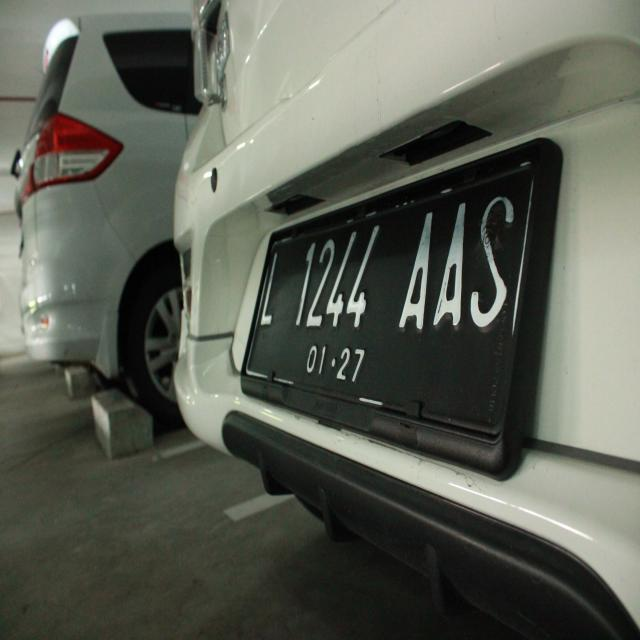1: (288, 230, 316, 333)
2: (306, 232, 334, 336)
4: (344, 216, 380, 336), (328, 226, 358, 338)
A: (388, 207, 439, 333), (431, 191, 476, 331)
L: (250, 240, 280, 338)
S: (468, 184, 516, 342)
